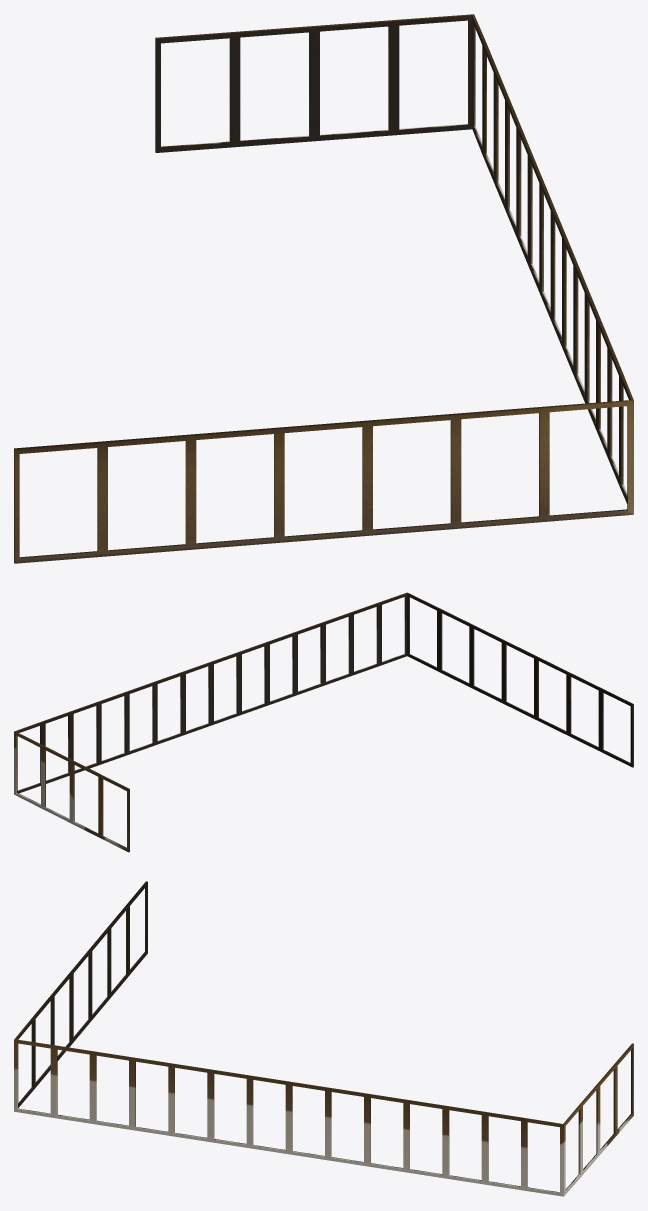
The model's file is Building_05_Cafe_Frames.fbx.
3 renders of one model, top to bottom at view 1: azimuth 30°, elevation 25°; view 2: azimuth 150°, elevation 25°; view 3: azimuth 270°, elevation 25°, orthographic. The views are drawn at different scales.
Parts seen in each view (by area): view 1: Building_05_Cafe_Frames; view 2: Building_05_Cafe_Frames; view 3: Building_05_Cafe_Frames.
Part boxes in pixels (bbox=[...]): Building_05_Cafe_Frames: bbox=[14, 14, 633, 563]; Building_05_Cafe_Frames: bbox=[14, 592, 633, 852]; Building_05_Cafe_Frames: bbox=[14, 881, 633, 1196].
Bounding box in the file's own units: 17.48 × 2.41 × 18.82.
Materials: 1 (1 with a texture image).
